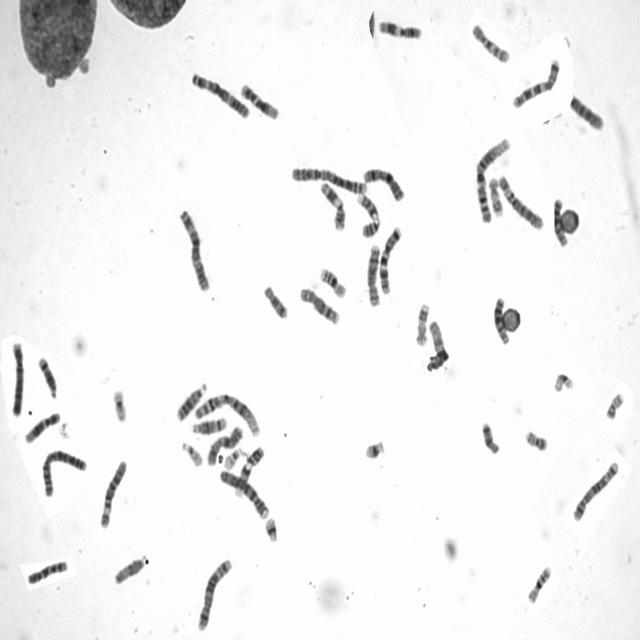A1: (190, 387, 262, 439), (472, 132, 512, 224)
A2: (287, 161, 370, 195), (38, 444, 88, 498)
A3: (187, 66, 252, 120), (176, 203, 212, 293)
B4: (216, 464, 271, 520), (7, 336, 26, 418)
B5: (569, 456, 621, 523), (194, 552, 234, 632)
C10: (468, 18, 512, 65), (24, 555, 69, 586)
C11: (317, 177, 347, 232), (374, 15, 424, 40)
C12: (237, 77, 280, 121), (21, 406, 61, 444)
C6: (495, 170, 545, 232), (96, 454, 128, 530)
C7: (508, 54, 562, 110), (376, 221, 404, 296)
C8: (296, 282, 341, 326), (363, 240, 382, 308)
C9: (232, 442, 266, 498), (354, 188, 382, 239)
D13: (173, 377, 209, 422), (491, 292, 512, 346)
D14: (34, 351, 59, 400), (189, 412, 228, 435)
D15: (110, 552, 146, 586), (425, 317, 449, 366)
E16: (524, 560, 553, 605), (316, 262, 348, 300)
E17: (412, 298, 431, 348), (486, 172, 504, 218)
E18: (260, 280, 289, 320), (478, 417, 501, 456)
F19: (109, 383, 128, 424), (550, 367, 576, 394)
F20: (522, 424, 549, 452), (603, 387, 625, 421)
G21: (361, 434, 386, 460), (262, 513, 279, 543)
G22: (178, 436, 205, 468), (222, 443, 244, 471)
X: (361, 162, 406, 203), (204, 421, 244, 467)
